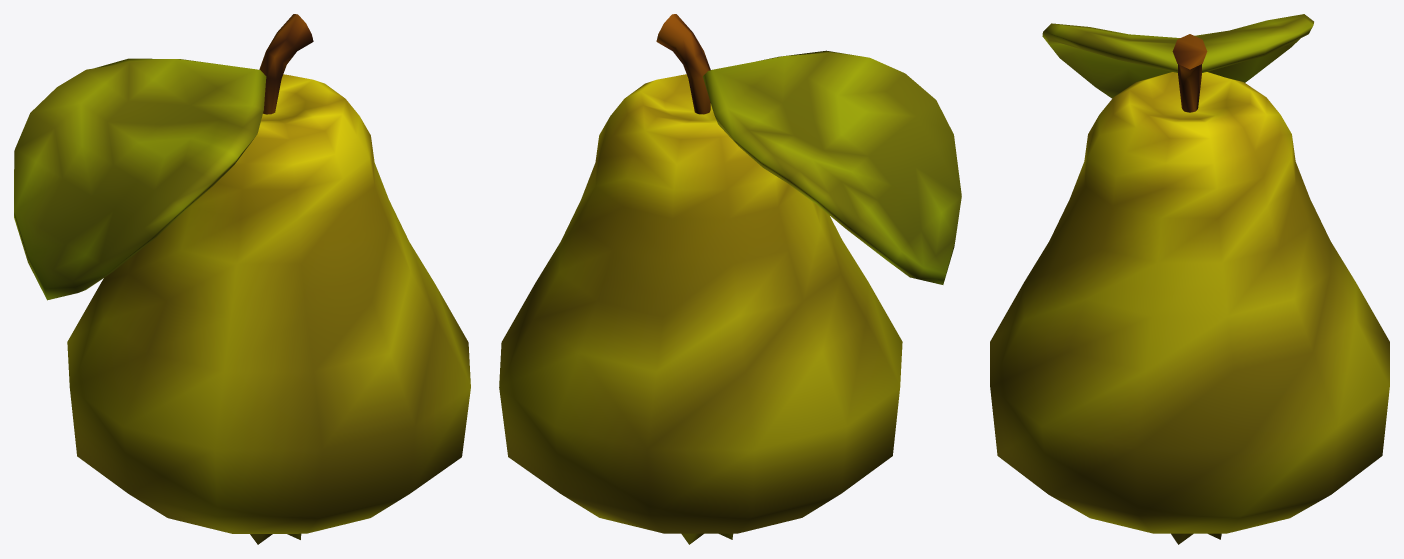
File: Farm_Tree_Product_Guava_01_Rotten.fbx
The picture shows the model from 3 angles, left to right: view 1: azimuth 30°, elevation 25°; view 2: azimuth 150°, elevation 25°; view 3: azimuth 270°, elevation 25°; orthographic projection.
Visible parts, largest first — view 1: Farm_Tree_Product_Guava_01_Rotten; view 2: Farm_Tree_Product_Guava_01_Rotten; view 3: Farm_Tree_Product_Guava_01_Rotten.
Part boxes in pixels (x1,y1,x2,y2): Farm_Tree_Product_Guava_01_Rotten: [14, 14, 470, 544]; Farm_Tree_Product_Guava_01_Rotten: [499, 14, 961, 544]; Farm_Tree_Product_Guava_01_Rotten: [990, 14, 1389, 544].
Size of the model in its own units: 26.36 by 31.28 by 22.34.
